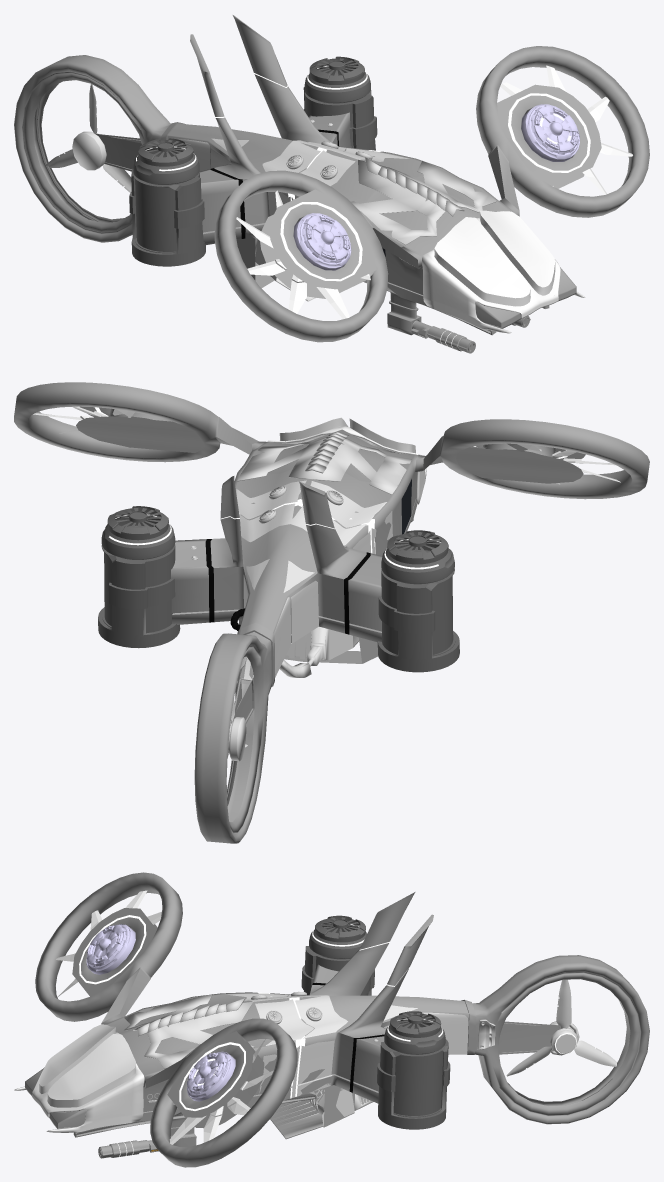
Rendered from space_ship.glb.
3 renders of one model, top to bottom at view 1: azimuth 30°, elevation 25°; view 2: azimuth 150°, elevation 25°; view 3: azimuth 270°, elevation 25°, orthographic. The views are drawn at different scales.
Visible parts, largest first — view 1: Circle.049, Cylinder.004, Circle.039, Circle.038, Circle.033, Circle.032, Plane.008, Cube.002, Circle.037, Circle.047, Circle.031, Circle.052; view 2: Circle.049, Cylinder.004, Circle.032, Circle.033, Circle.051, Circle.039, Plane.008, Circle.036, Circle.031, Circle.047, Circle.037; view 3: Circle.049, Cylinder.004, Circle.039, Circle.032, Circle.038, Circle.033, Circle.037, Circle.051, Plane.008, Cube.002, Circle.047, Circle.031 (+2 smaller).
Part boxes in pixels (x1,y1,x2,y2): Circle.049: (14, 15, 649, 342); Cylinder.004: (129, 56, 377, 266); Circle.039: (422, 210, 585, 333); Circle.038: (293, 104, 579, 270); Circle.033: (351, 159, 496, 245); Circle.032: (171, 138, 409, 215); Plane.008: (236, 65, 632, 319); Cube.002: (363, 281, 549, 353); Circle.037: (45, 84, 131, 192); Circle.047: (365, 157, 464, 216); Circle.031: (236, 232, 274, 288); Circle.052: (286, 141, 372, 179); Circle.049: (14, 382, 649, 843); Cylinder.004: (98, 506, 459, 672); Circle.032: (236, 480, 392, 680); Circle.033: (237, 437, 411, 494); Circle.051: (247, 626, 358, 677); Circle.039: (267, 417, 426, 504); Plane.008: (33, 406, 620, 484); Circle.036: (205, 539, 370, 634); Circle.031: (239, 620, 378, 663); Circle.047: (305, 432, 348, 473); Circle.037: (227, 698, 247, 761); Circle.049: (25, 872, 649, 1167); Cylinder.004: (301, 915, 450, 1129); Circle.039: (14, 1024, 144, 1132); Circle.032: (225, 993, 468, 1097); Circle.038: (86, 924, 235, 1101); Circle.033: (123, 994, 254, 1068); Circle.037: (506, 979, 616, 1076); Circle.051: (270, 1088, 373, 1139); Plane.008: (56, 890, 273, 1144); Cube.002: (73, 1091, 316, 1158); Circle.047: (133, 998, 244, 1036); Circle.031: (323, 1085, 354, 1127).
Size of the model in its own units: 4.98 by 2.49 by 6.11.
